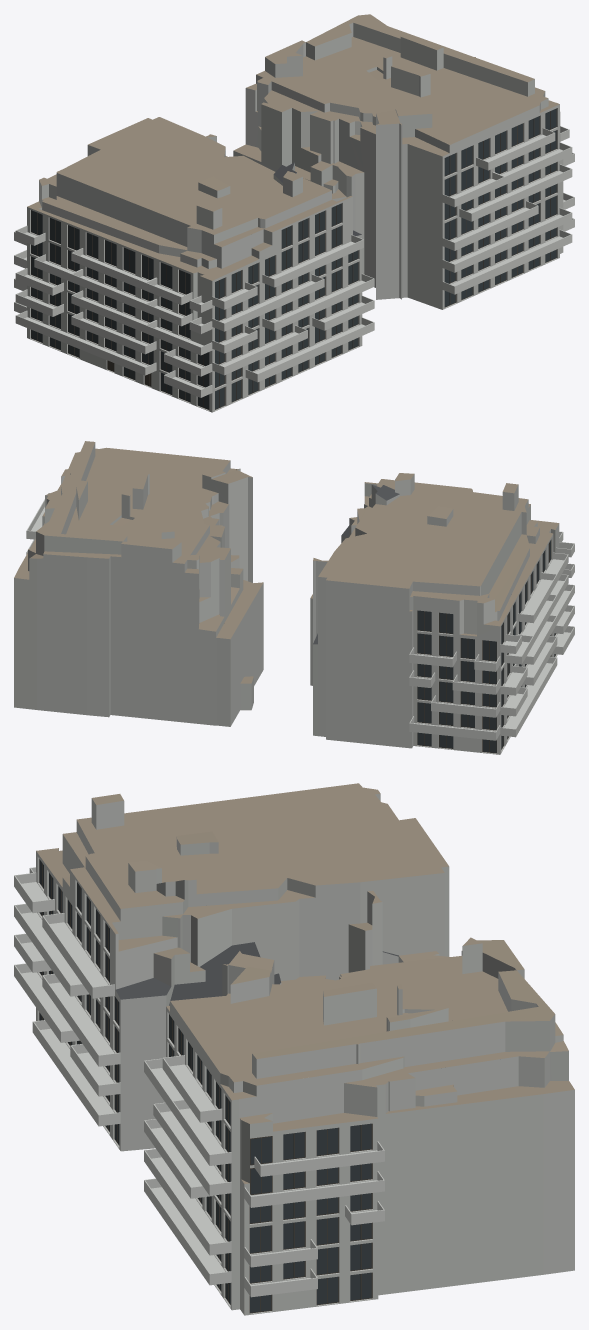
Rendered from recipe-large-spadinalaan-351-471-252986.glb.
3 renders of one model, top to bottom at view 1: azimuth 30°, elevation 25°; view 2: azimuth 150°, elevation 25°; view 3: azimuth 270°, elevation 25°, orthographic. The views are drawn at different scales.
Parts seen in each view (by area): view 1: spadinalaan-351-471-252986; view 2: spadinalaan-351-471-252986; view 3: spadinalaan-351-471-252986.
Part boxes in pixels (box(x1,y1,x2,y2)): spadinalaan-351-471-252986: box(14, 14, 574, 412); spadinalaan-351-471-252986: box(14, 441, 574, 754); spadinalaan-351-471-252986: box(14, 783, 574, 1315).
Bounding box in the file's own units: 76.05 × 25.7 × 52.28.
